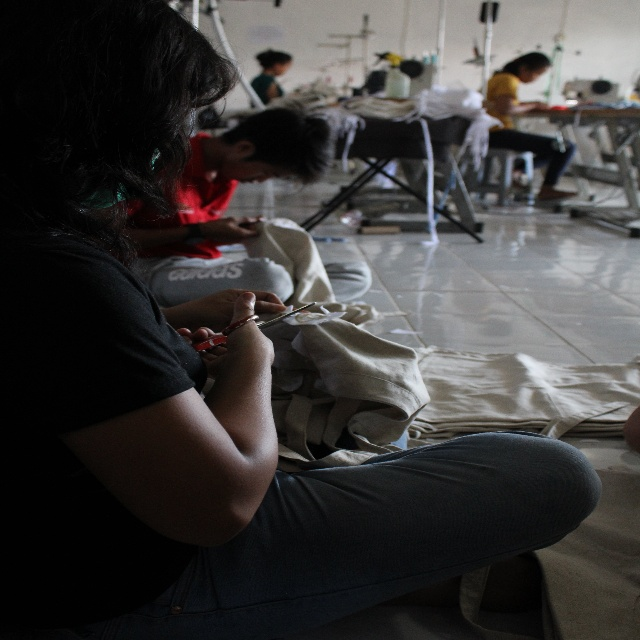Sin_guantes: (195, 289, 276, 407), (168, 292, 307, 339)
